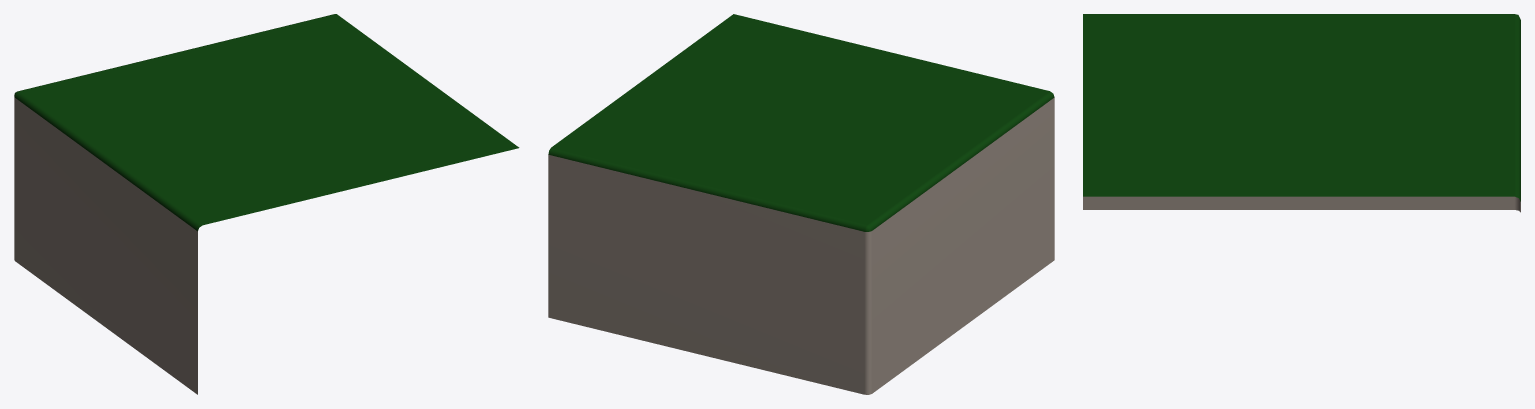
Rendered from Cliff_02.fbx.
3 views of the same model, side by side, from view 1: azimuth 30°, elevation 25°; view 2: azimuth 150°, elevation 25°; view 3: azimuth 270°, elevation 25° (orthographic). The views are drawn at different scales.
Visible parts, largest first — view 1: Cliff_02; view 2: Cliff_02; view 3: Cliff_02.
Boxes of the visible parts, x1,y1,x2,y2 form: Cliff_02: [14, 14, 519, 394]; Cliff_02: [548, 14, 1054, 394]; Cliff_02: [1083, 14, 1520, 212].
Bounding box in the file's own units: 200 × 100 × 200.
